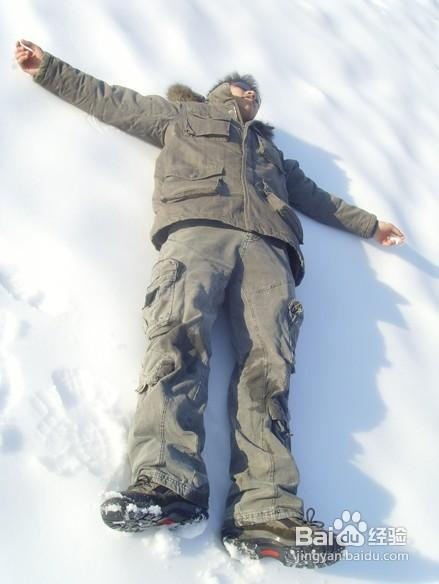falling: (34, 22, 405, 566)
